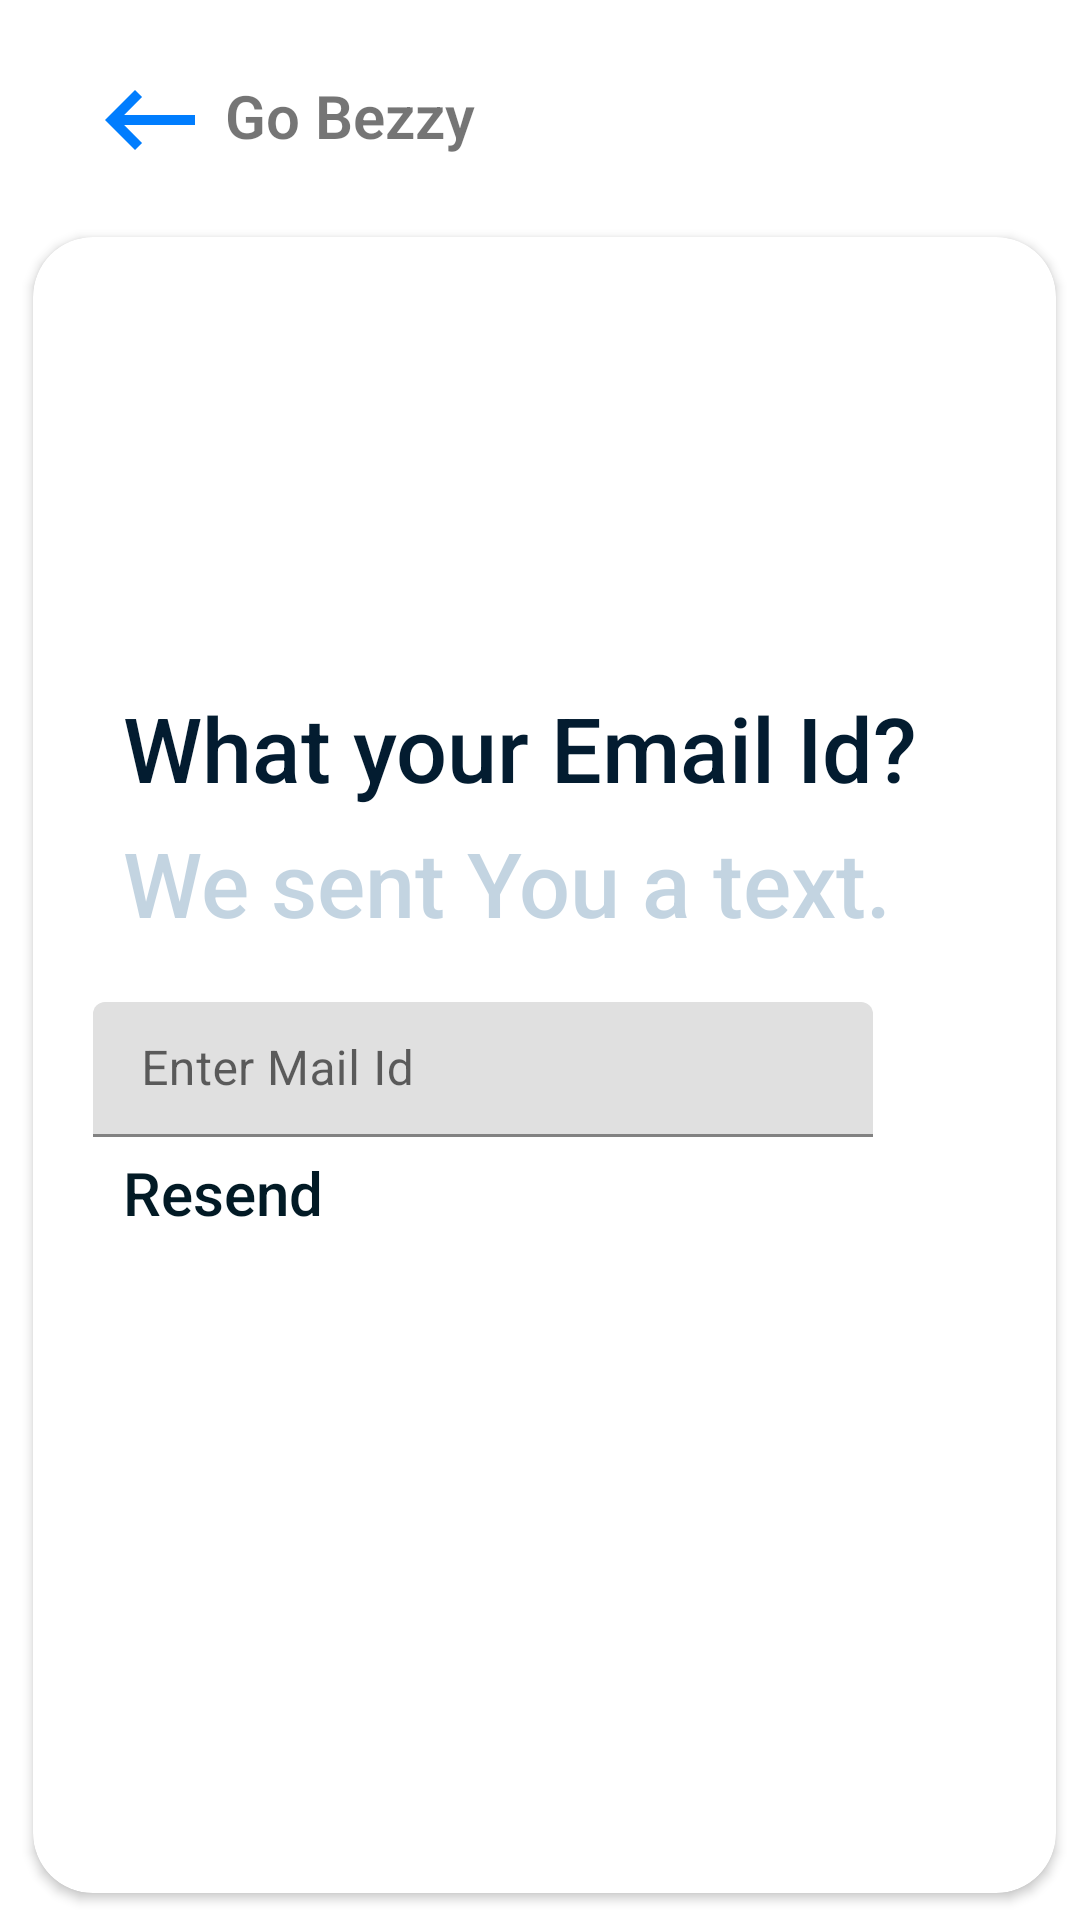

Locate icon controls on the screen. Image size 1080px x 1920px, boxes as (x1, y1, x2, y2).
keyboard backspace: (105, 90, 195, 150)
